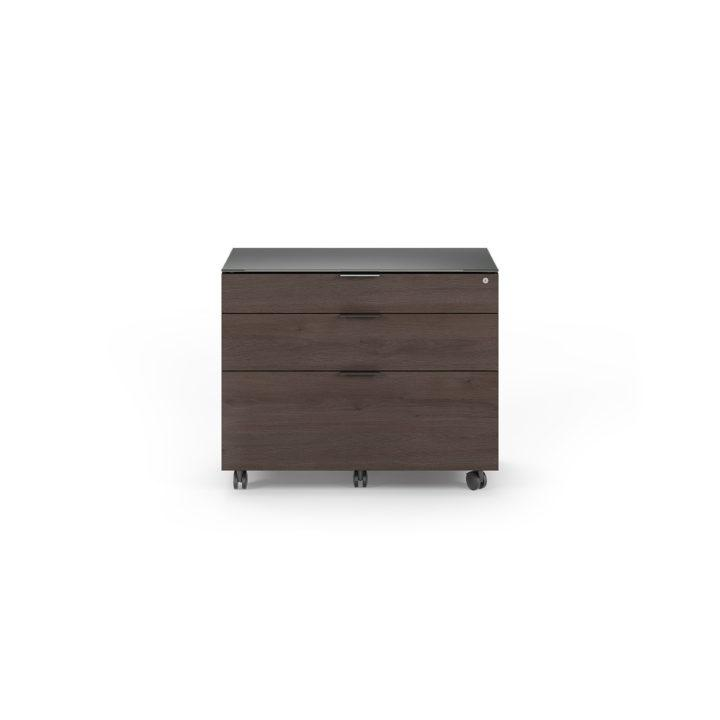cabinet_door: (222, 372, 497, 472), (223, 311, 500, 370), (222, 277, 498, 316)
handle: (333, 307, 384, 320), (336, 270, 386, 282), (336, 369, 380, 379)
